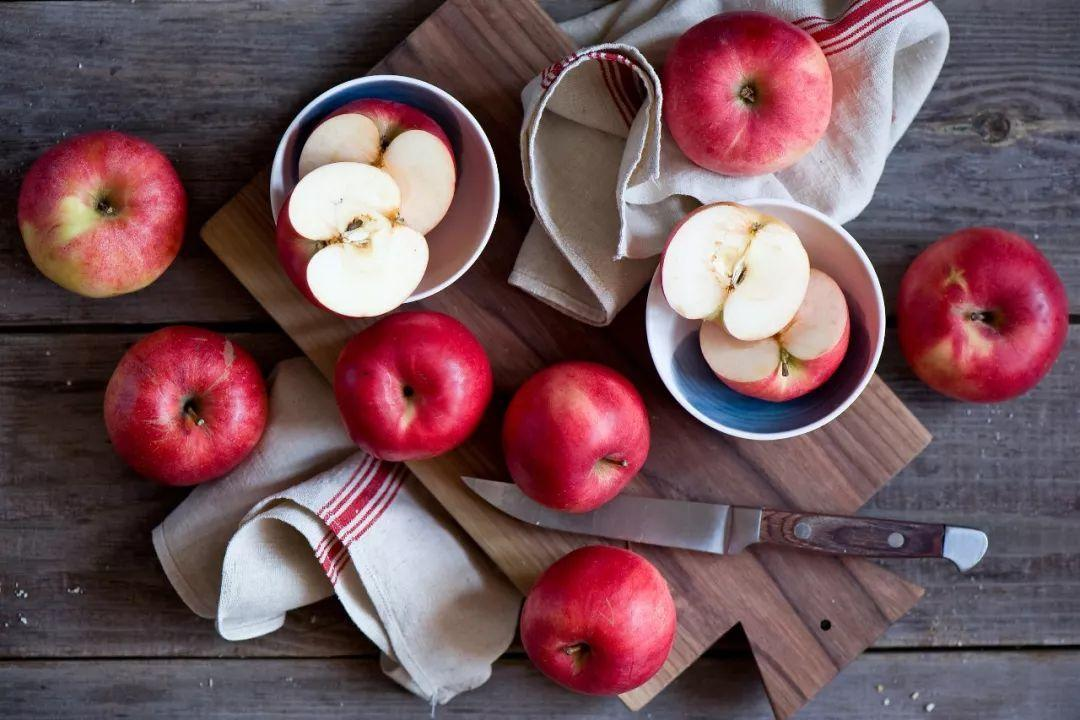apple: (896, 228, 1068, 408), (15, 129, 187, 299), (661, 9, 832, 177), (103, 324, 268, 487), (329, 307, 493, 462), (518, 546, 676, 703), (497, 357, 652, 516)
